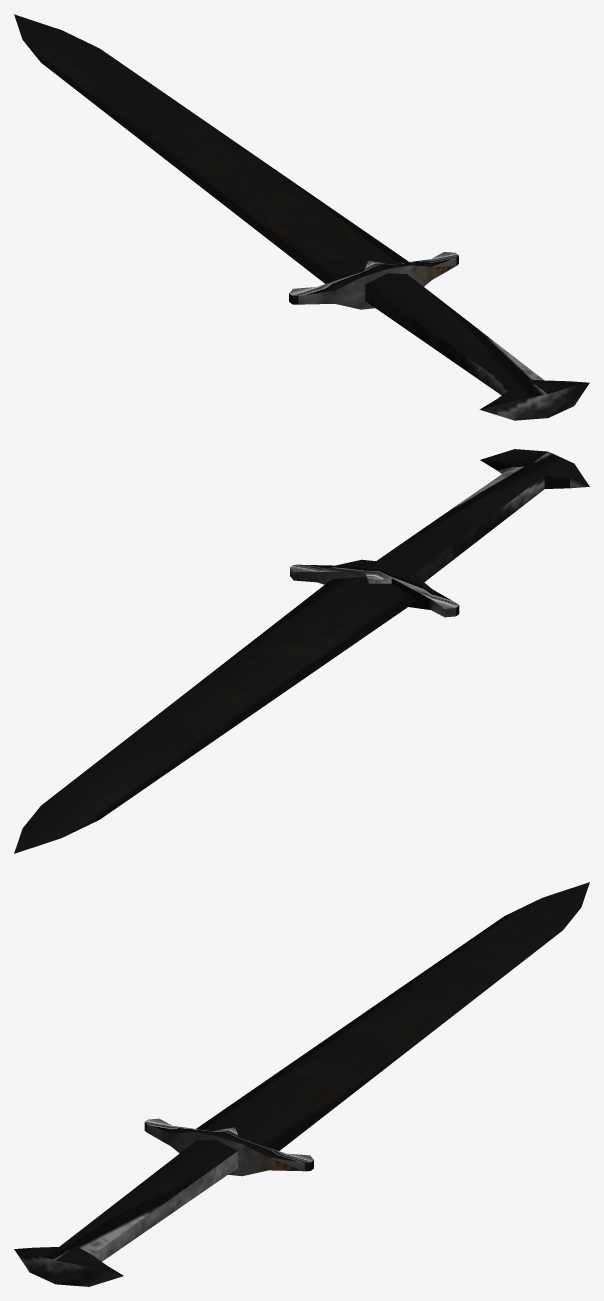
3 views of the same model, one above another, from view 1: azimuth 30°, elevation 25°; view 2: azimuth 150°, elevation 25°; view 3: azimuth 330°, elevation 25° (orthographic).
Visible parts, largest first — view 1: mesh_0; view 2: mesh_0; view 3: mesh_0.
Boxes of the visible parts, x1=… form: mesh_0: x1=14, y1=14, x2=589, y2=420; mesh_0: x1=14, y1=449, x2=589, y2=853; mesh_0: x1=14, y1=882, x2=589, y2=1286.
Bounding box in the file's own units: 6.89 × 1.5 × 38.35.
1 material, 1 textured.
